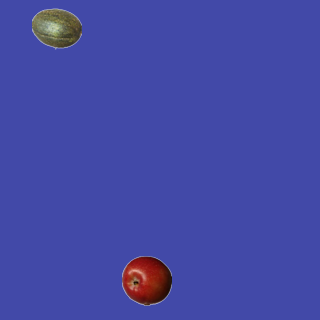Apple Braeburn: (121, 255, 171, 305)
Melon Piel de Sapo: (31, 3, 81, 53)
